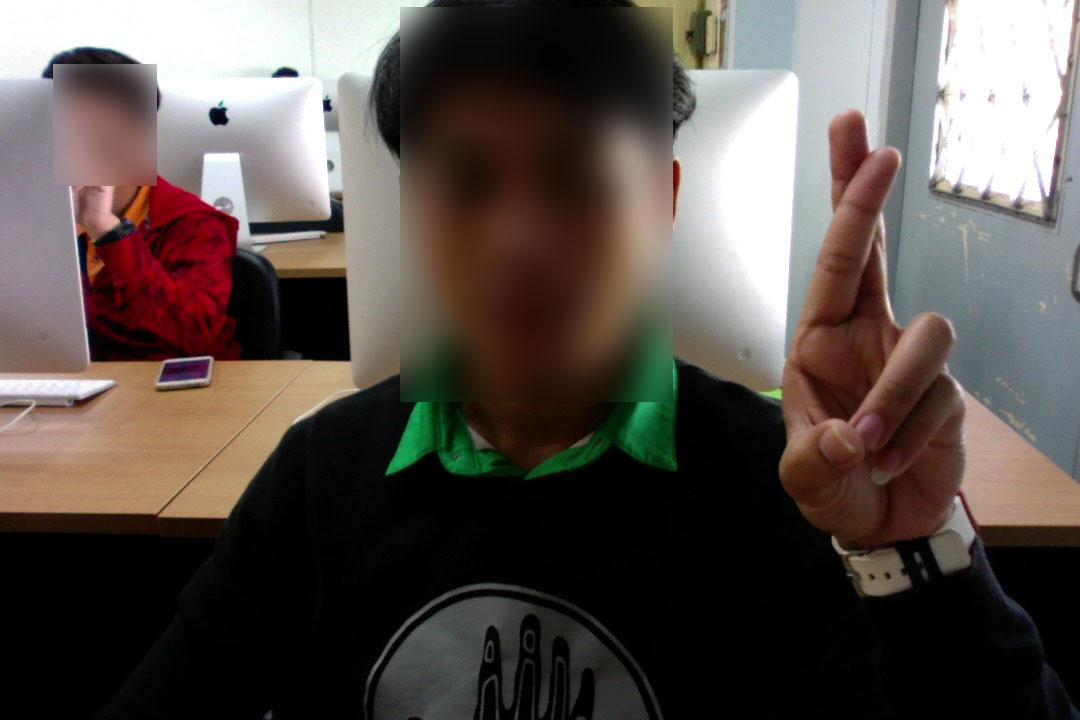rao: (760, 105, 973, 542)
